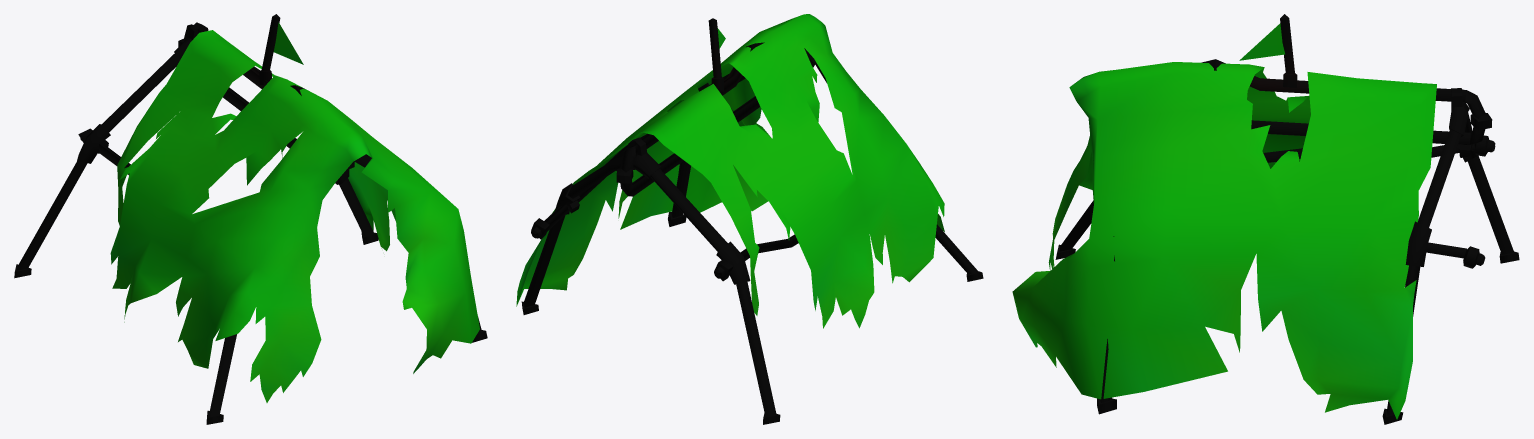
The model's file is env_camping_raintent01_lod1.fbx.
3 views of the same model, side by side, from view 1: azimuth 30°, elevation 25°; view 2: azimuth 150°, elevation 25°; view 3: azimuth 270°, elevation 25° (orthographic). The views are drawn at different scales.
Visible parts, largest first — view 1: env_camping_raintent01_lod1; view 2: env_camping_raintent01_lod1; view 3: env_camping_raintent01_lod1.
Part boxes in pixels (box(x1,y1,x2,y2)): env_camping_raintent01_lod1: box(14, 14, 487, 424); env_camping_raintent01_lod1: box(516, 14, 983, 424); env_camping_raintent01_lod1: box(1012, 14, 1519, 424).
Size of the model in its own units: 38.49 by 33.92 by 47.44.
